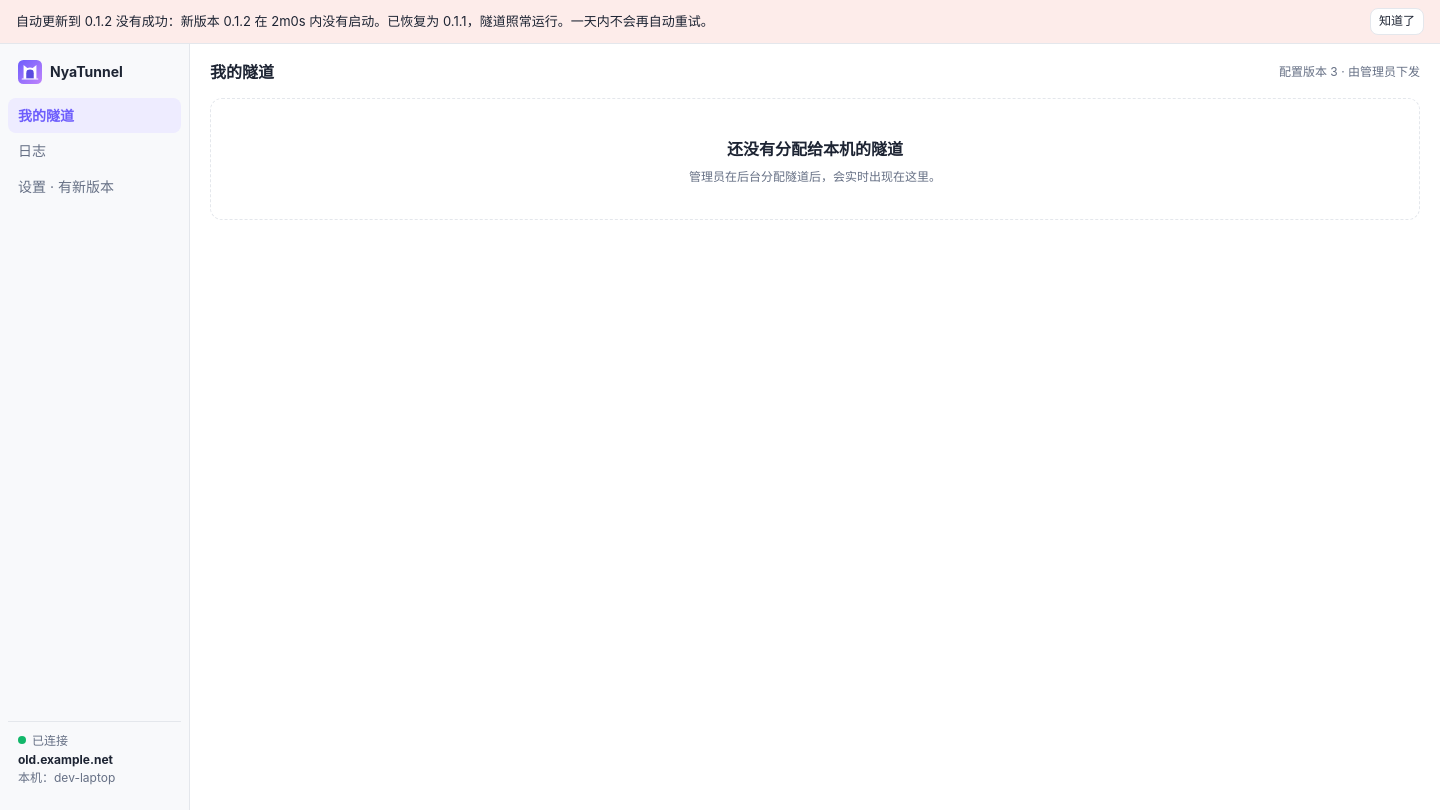
Test: automatic updates › reports a rolled-back update and does not retry that version for a day
This screenshot has width=1440, height=810.
Expected: the message with test id "update-rolled-back" shows "已恢复为 0.1.1", [387, 13, 571, 29]
Step 1. Click the button "知道了" → (1397, 21), box [1370, 8, 1424, 35]
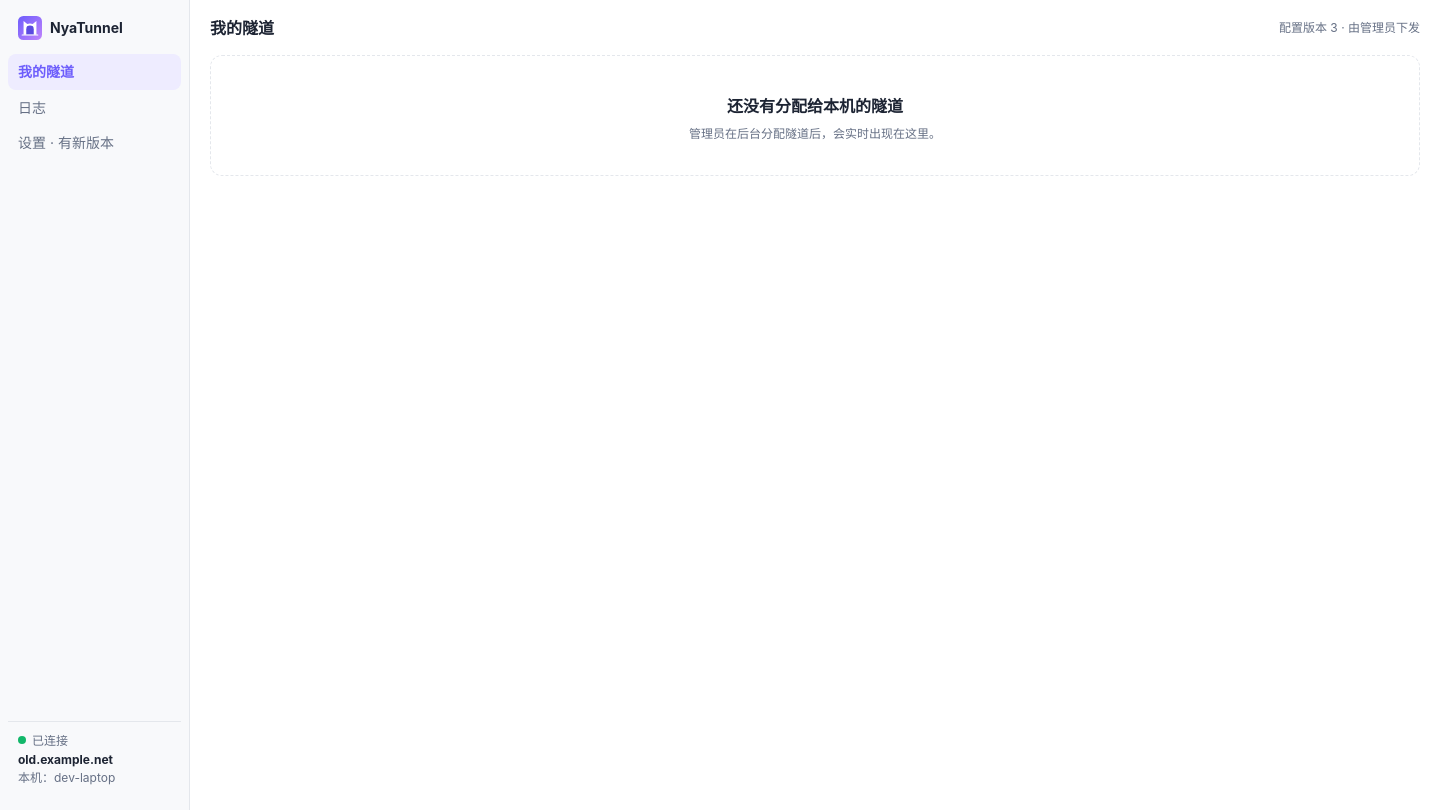
Result: the message with test id "update-rolled-back" is gone
